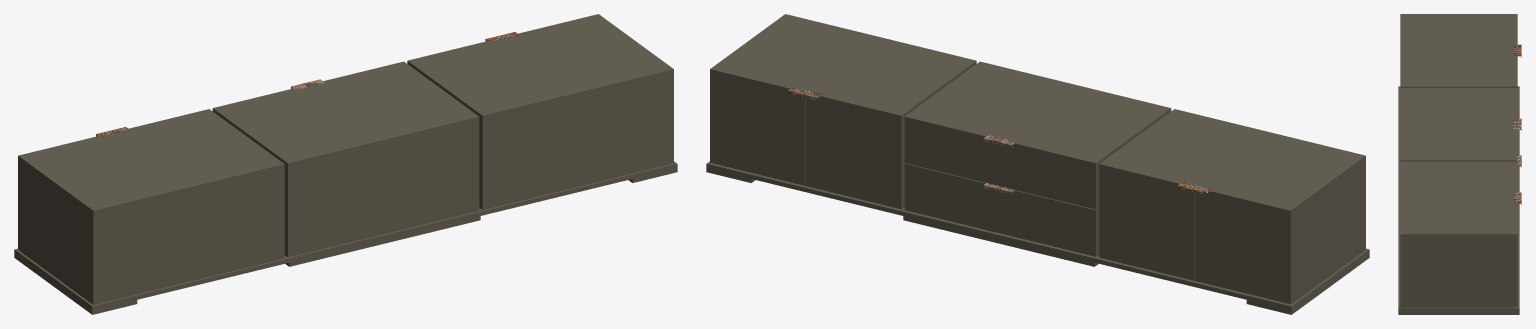
The picture shows the model from 3 angles, left to right: view 1: azimuth 30°, elevation 25°; view 2: azimuth 150°, elevation 25°; view 3: azimuth 270°, elevation 25°; orthographic projection. The views are drawn at different scales.
Parts seen in each view (by area): view 1: mesh13_mesh13-geometry, mesh15_mesh15-geometry, mesh9_mesh9-geometry, mesh1_mesh1-geometry, mesh5_mesh5-geometry, mesh3_mesh3-geometry, mesh23_mesh23-geometry, mesh37_mesh37-geometry, mesh29_mesh29-geometry; view 2: mesh15_mesh15-geometry, mesh23_mesh23-geometry, mesh37_mesh37-geometry, mesh29_mesh29-geometry, mesh9_mesh9-geometry, mesh1_mesh1-geometry, mesh5_mesh5-geometry, mesh3_mesh3-geometry; view 3: mesh15_mesh15-geometry, mesh7_mesh7-geometry, mesh1_mesh1-geometry, mesh29_mesh29-geometry, mesh3_mesh3-geometry, mesh37_mesh37-geometry, mesh23_mesh23-geometry, mesh31_mesh31-geometry, mesh19_mesh19-geometry, mesh25_mesh25-geometry.
Part boxes in pixels (x1,y1,x2,y2): mesh13_mesh13-geometry: [93, 69, 673, 304]; mesh15_mesh15-geometry: [21, 15, 673, 210]; mesh9_mesh9-geometry: [20, 62, 482, 304]; mesh1_mesh1-geometry: [14, 161, 677, 310]; mesh5_mesh5-geometry: [285, 216, 480, 266]; mesh3_mesh3-geometry: [14, 168, 677, 314]; mesh23_mesh23-geometry: [18, 41, 489, 250]; mesh37_mesh37-geometry: [212, 61, 405, 112]; mesh29_mesh29-geometry: [114, 14, 600, 133]; mesh15_mesh15-geometry: [712, 14, 1365, 208]; mesh23_mesh23-geometry: [806, 94, 1292, 304]; mesh37_mesh37-geometry: [904, 115, 1098, 256]; mesh29_mesh29-geometry: [710, 67, 1195, 280]; mesh9_mesh9-geometry: [903, 61, 1365, 303]; mesh1_mesh1-geometry: [706, 161, 1369, 310]; mesh5_mesh5-geometry: [903, 216, 1098, 266]; mesh3_mesh3-geometry: [706, 168, 1369, 314]; mesh15_mesh15-geometry: [1400, 14, 1513, 234]; mesh7_mesh7-geometry: [1400, 86, 1513, 307]; mesh1_mesh1-geometry: [1398, 86, 1519, 311]; mesh29_mesh29-geometry: [1514, 56, 1517, 306]; mesh3_mesh3-geometry: [1398, 311, 1519, 314]; mesh37_mesh37-geometry: [1514, 88, 1517, 161]; mesh23_mesh23-geometry: [1514, 14, 1517, 192]; mesh31_mesh31-geometry: [1514, 118, 1521, 167]; mesh19_mesh19-geometry: [1514, 44, 1521, 197]; mesh25_mesh25-geometry: [1514, 50, 1521, 205].
Size of the model in its own units: 0.9608 by 0.1611 by 0.2254.
